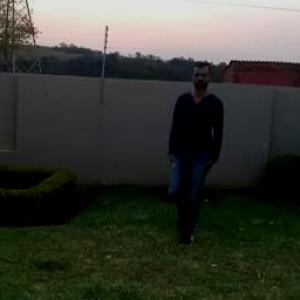follow: (164, 60, 224, 245)
